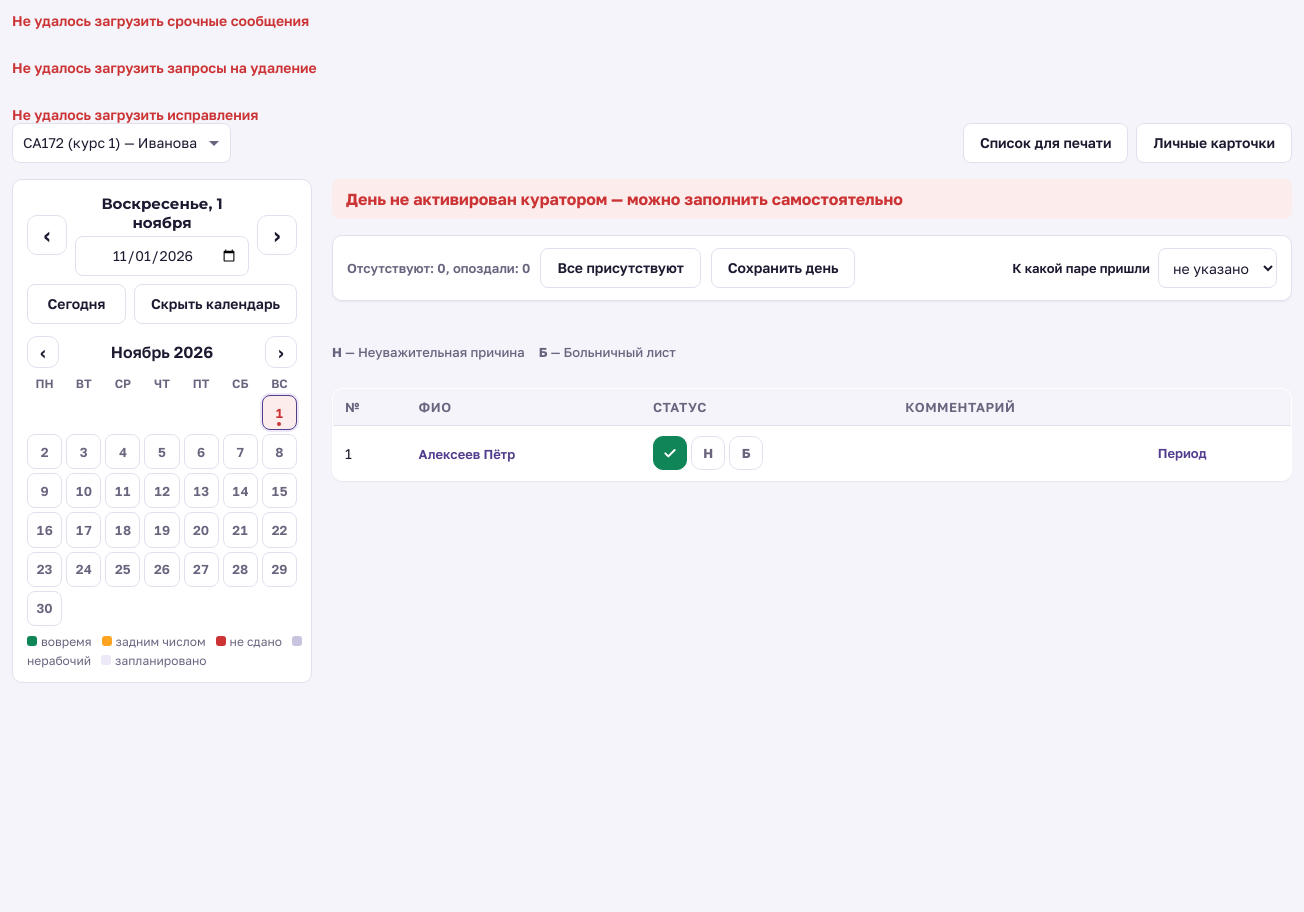
Test: GroupJournalTab — журнал администрации › группы берутся из /admin/groups: активные, с куратором или пометкой «нет куратора»
Check: the link "Алексеев Пётр" is shown, box [415,444,519,464]
Click the dropdown named "Группа" at (122, 143), box [12,123,231,163]
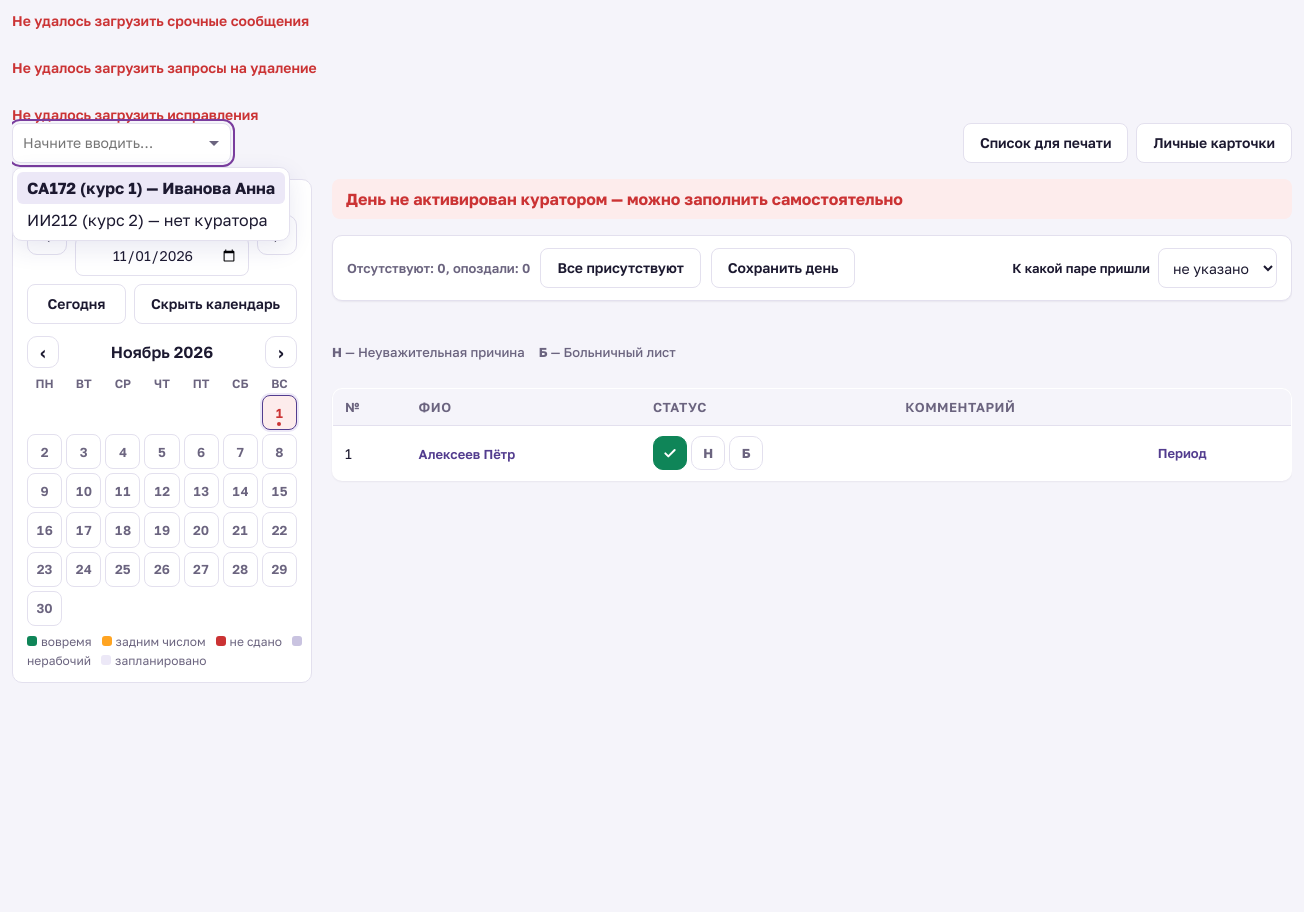
Check: the options read "СА172 (курс 1) — Иванова Анна", "ИИ212 (курс 2) — нет куратора", in this order, box [17,172,285,204]; [17,204,285,236]
